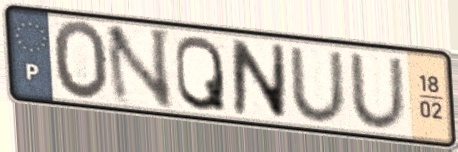N: (102, 24, 176, 112), (228, 36, 289, 123)
O: (50, 18, 112, 104)
Q: (173, 33, 229, 114)
U: (285, 45, 350, 126), (345, 51, 410, 132)
